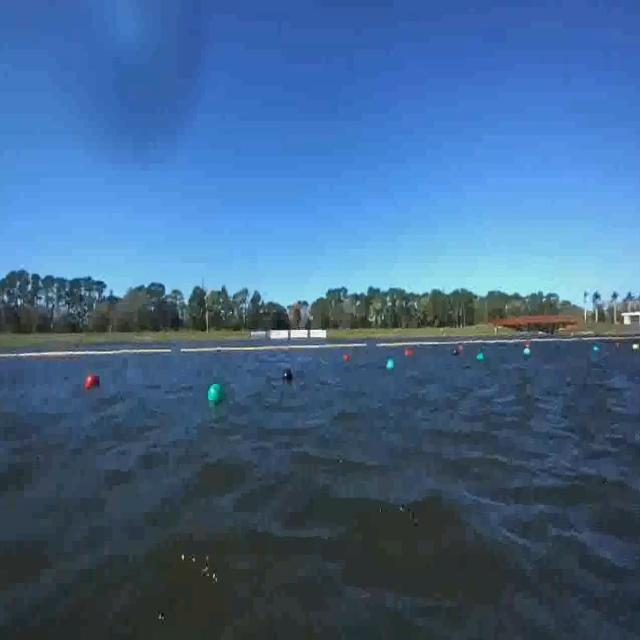green-buoy: (209, 381, 225, 401), (384, 358, 393, 371)
red-buoy: (87, 376, 101, 390)
